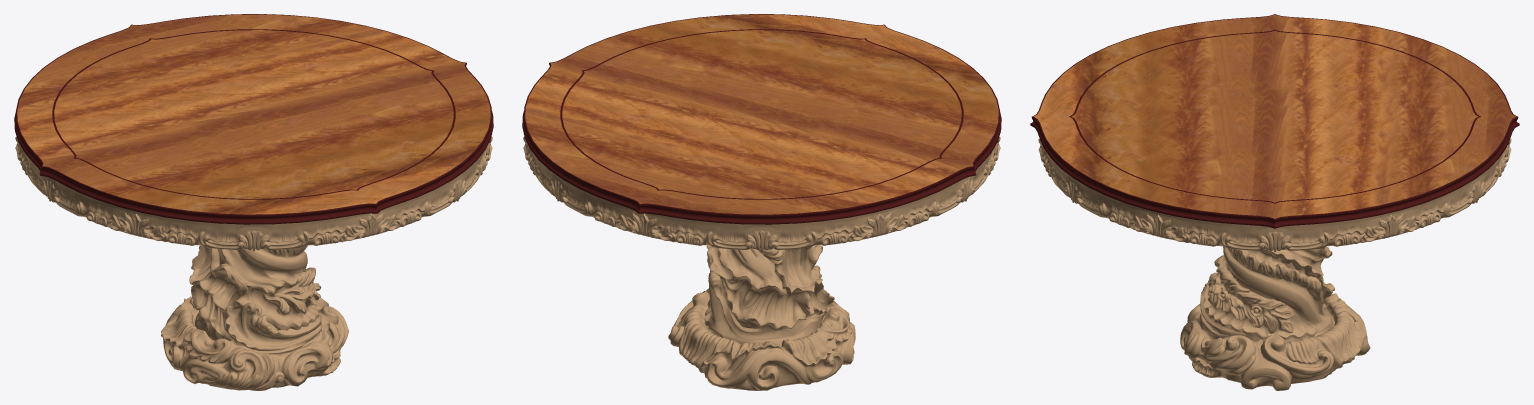
Rendered from table.fbx.
3 renders of one model, left to right at view 1: azimuth 30°, elevation 25°; view 2: azimuth 150°, elevation 25°; view 3: azimuth 270°, elevation 25°, orthographic.
Parts seen in each view (by area): view 1: D_JC_Tables_REG_14:Mesh; view 2: D_JC_Tables_REG_14:Mesh; view 3: D_JC_Tables_REG_14:Mesh.
Boxes of the visible parts, x1,y1,x2,y2 form: D_JC_Tables_REG_14:Mesh: (14,14,493,390); D_JC_Tables_REG_14:Mesh: (522,14,1001,390); D_JC_Tables_REG_14:Mesh: (1030,14,1519,390).
Bounding box in the file's own units: 67.06 × 35.99 × 67.06.
Materials: 4 (1 with a texture image).
